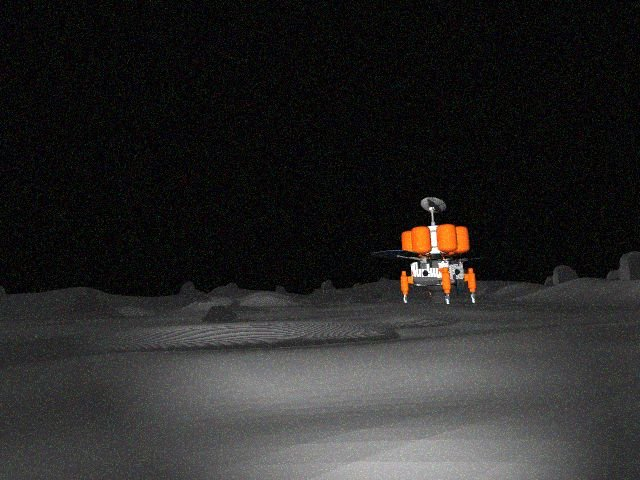homebase: (371, 193, 501, 308)
